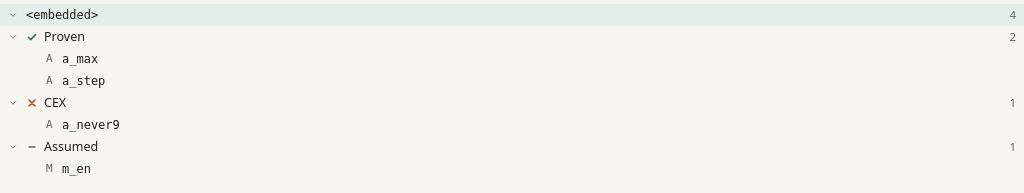
Test: TaskTree › property leaves › collapses one group with its own twisty
This screenshot has width=1024, height=193.
Click the button named "Collapse Proven" at [13, 37], box [6,30,20,44]
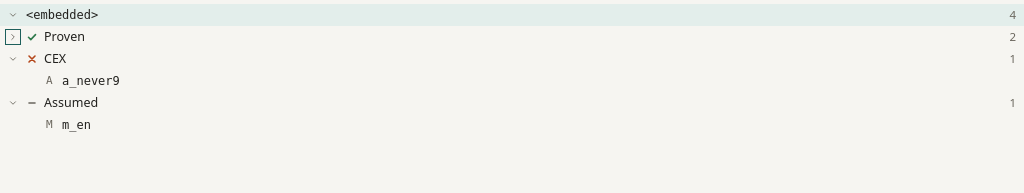
Click the button named "Expand Proven" at [13, 37], box [6,30,20,44]
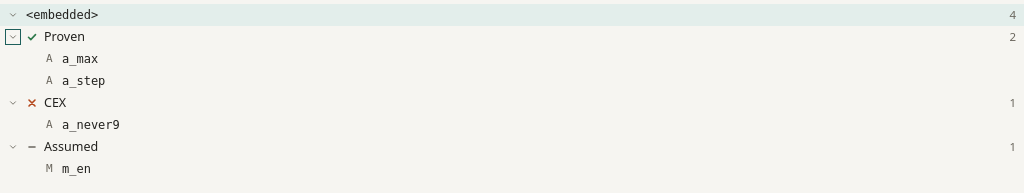
Expected: the text "a_max" is shown, [62,51,98,67]
